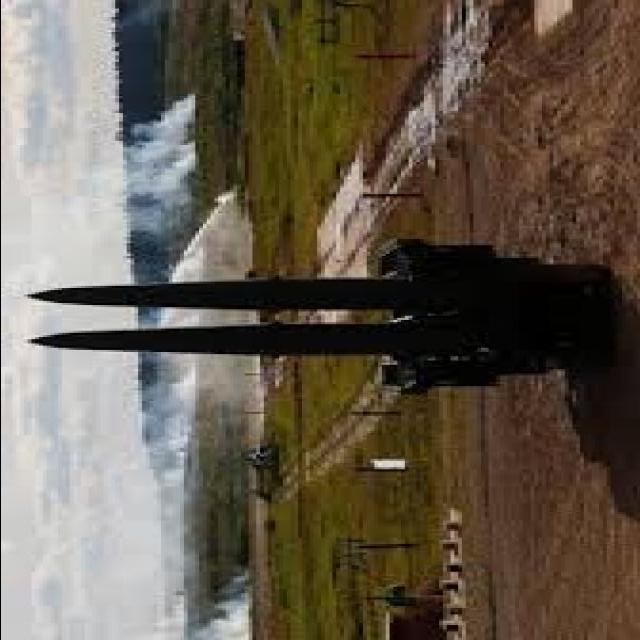Missile: (9, 315, 417, 361), (0, 271, 405, 309)
